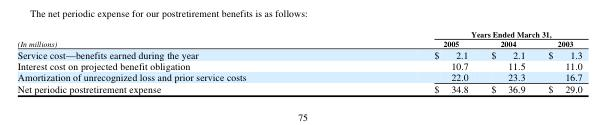table: (16, 28, 581, 94)
table column: (16, 28, 339, 94), (339, 28, 479, 94), (479, 28, 536, 94), (536, 28, 581, 94)
table column header: (16, 28, 581, 48)
table row: (16, 70, 581, 82), (16, 82, 581, 94), (16, 48, 581, 59), (16, 59, 581, 70), (16, 28, 581, 38), (16, 38, 581, 48)
table spanning cell: (16, 28, 339, 48), (339, 28, 581, 38)
